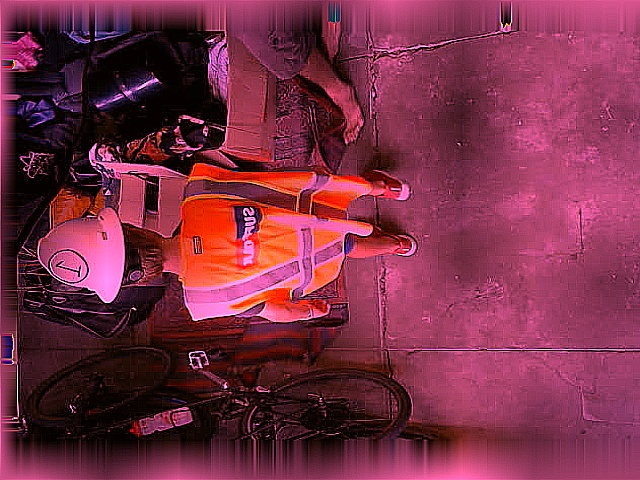one: (47, 249, 86, 283)
